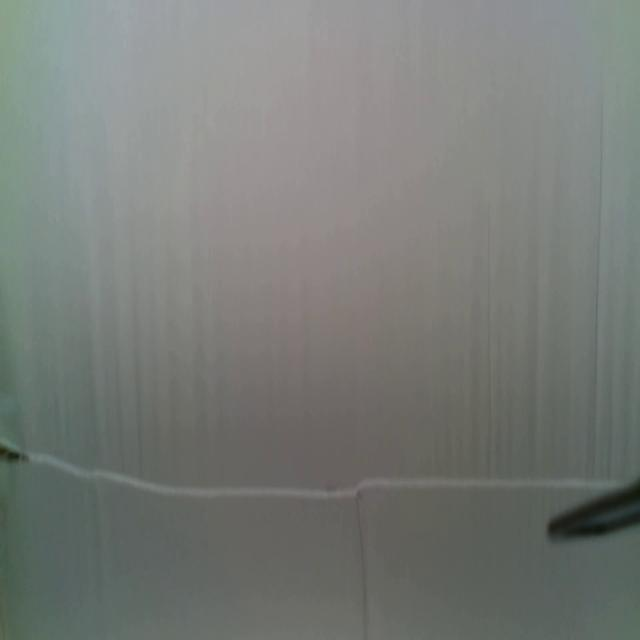crease: (592, 87, 605, 465), (484, 199, 495, 473), (354, 496, 368, 638)
hole: (0, 439, 32, 469)
